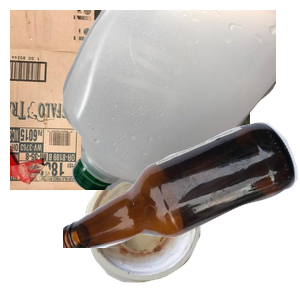cardboard: (10, 10, 250, 190)
glass: (63, 120, 300, 300)
plastic: (60, 10, 300, 190)
trash: (83, 163, 276, 300)
